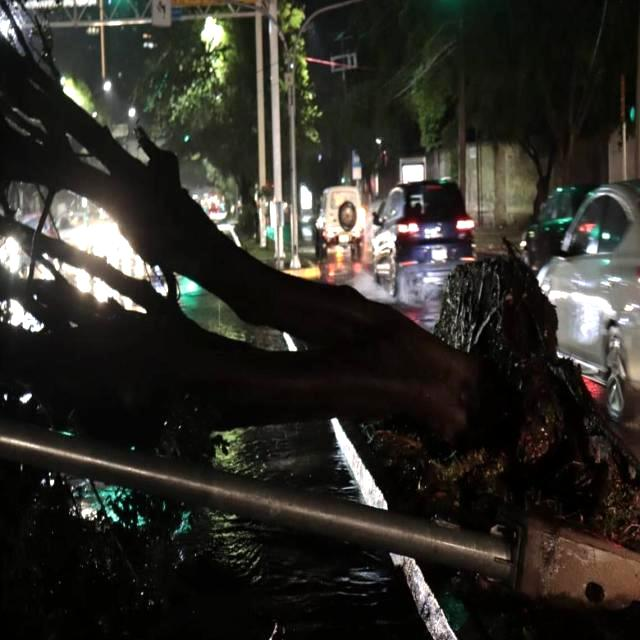Broken Pole: (0, 412, 639, 617)
